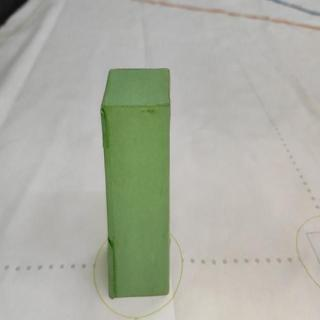greenbox: (97, 67, 173, 301)
